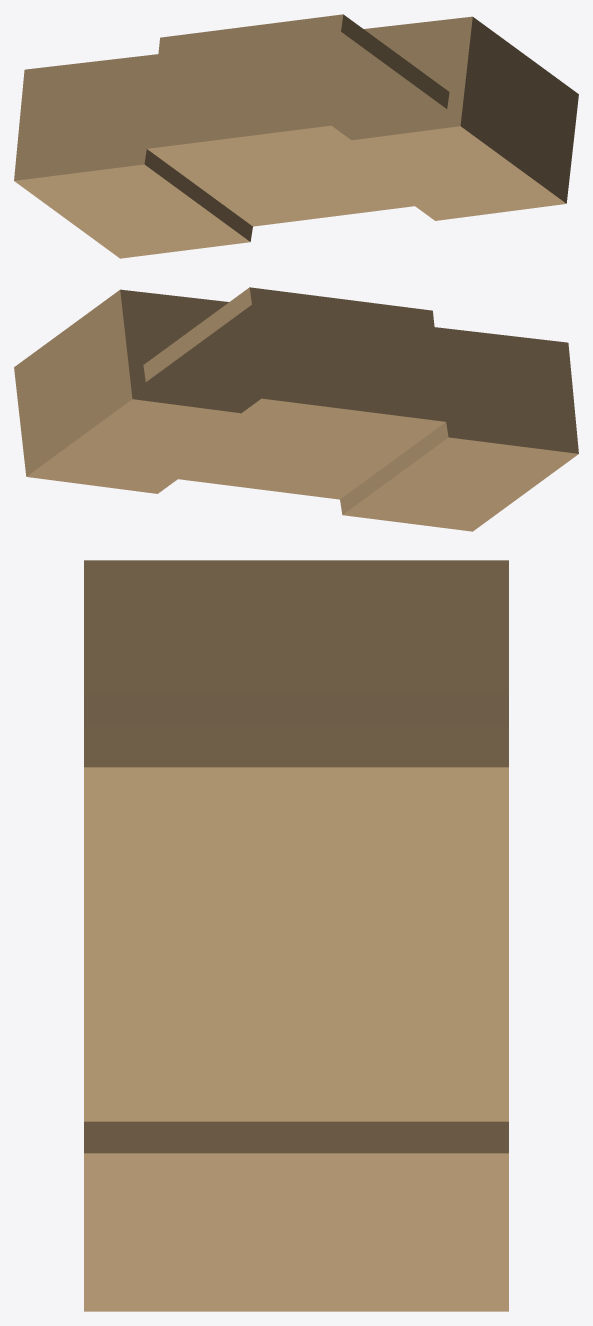
3 renders of one model, top to bottom at view 1: azimuth 30°, elevation 25°; view 2: azimuth 150°, elevation 25°; view 3: azimuth 270°, elevation 25°, orthographic. The views are drawn at different scales.
Visible parts, largest first — view 1: 0_0_3_1_1_2_3_2; view 2: 0_0_3_1_1_2_3_2; view 3: 0_0_3_1_1_2_3_2.
Boxes of the visible parts, x1,y1,x2,y2 form: 0_0_3_1_1_2_3_2: (14,14,578,258); 0_0_3_1_1_2_3_2: (14,287,578,531); 0_0_3_1_1_2_3_2: (84,560,508,1311).
Bounding box in the file's own units: 67.35 × 22.85 × 27.
